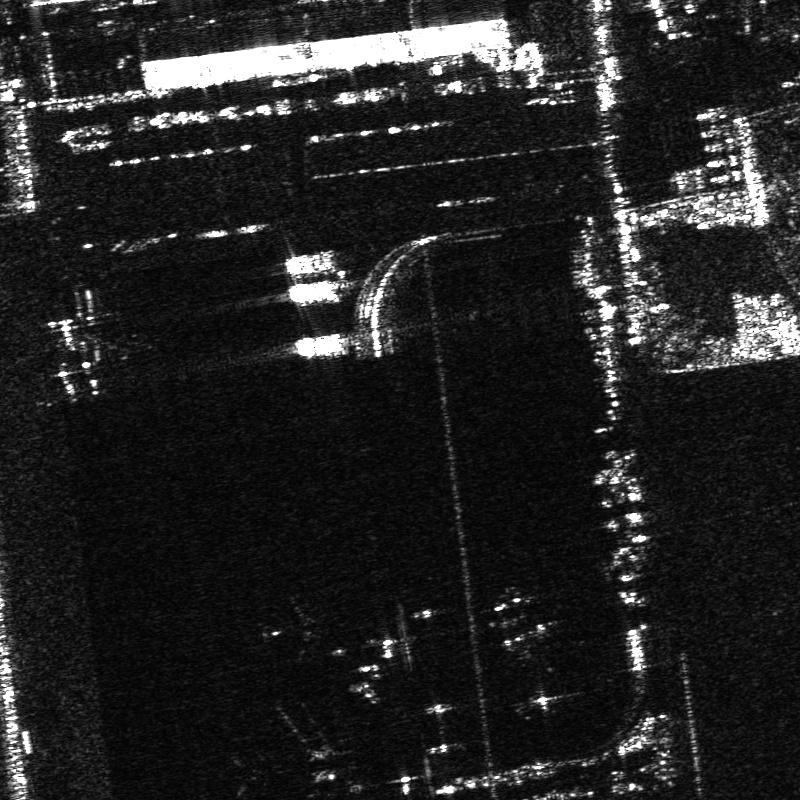Boeing787: (225, 699, 364, 799), (252, 591, 338, 669)
other: (16, 304, 153, 403)
